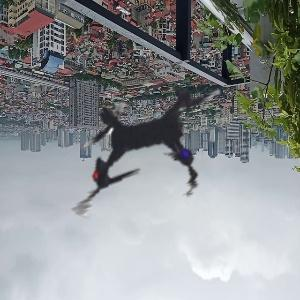drone: (6, 7, 284, 285)
